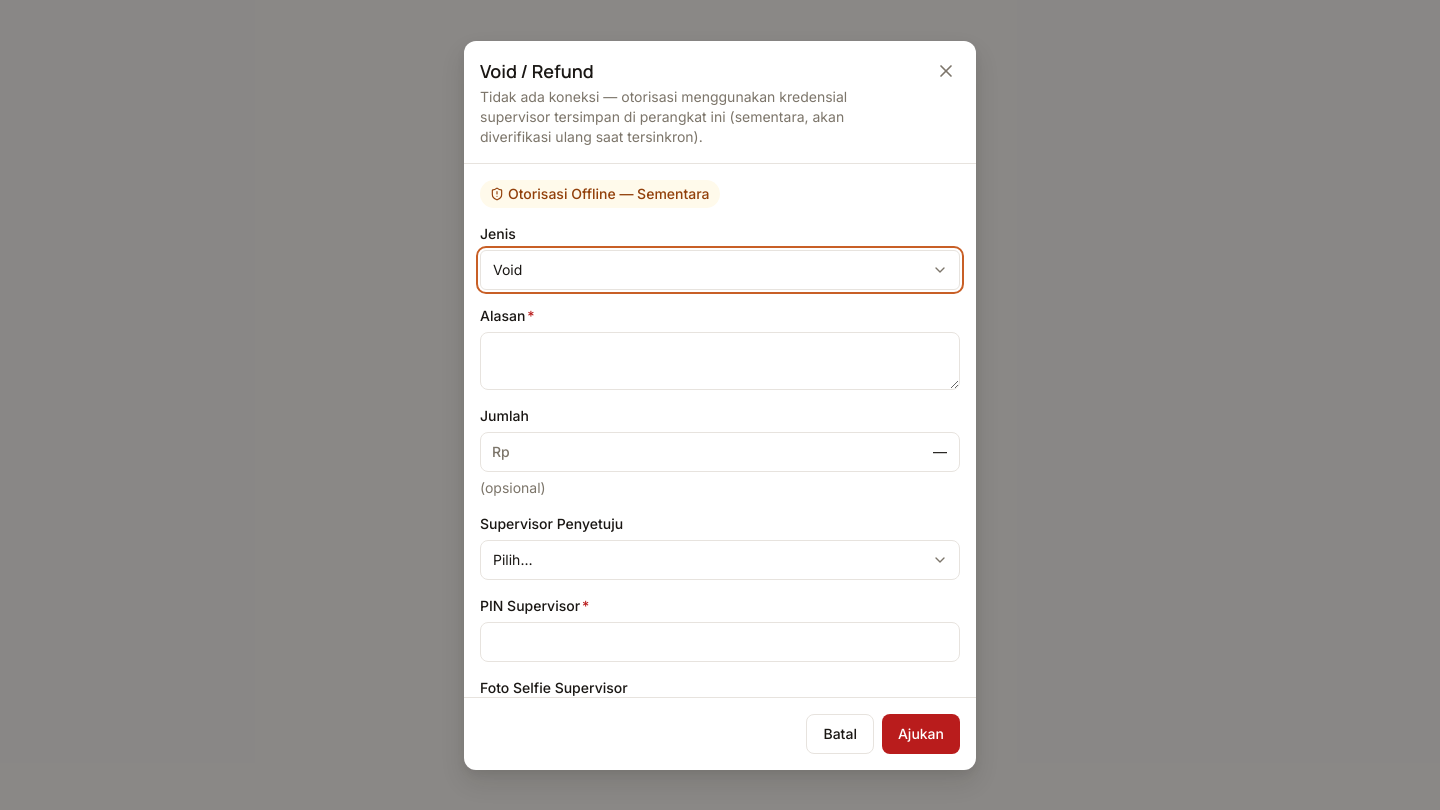
Scenario: VoidRefundModal — offline keeps the cached-credential PIN › RISK-S2: a void at or above the credential threshold cannot be submitted without a selfie
The width and height of the screenshot is (1440, 810).
Expected: the password field labelled "PIN Supervisor*" is shown, [480,622,960,662]
Select "Supervisor Cabang" in the dropdown labelled "Supervisor Penyetuju": (720, 560) [480,540,960,580]
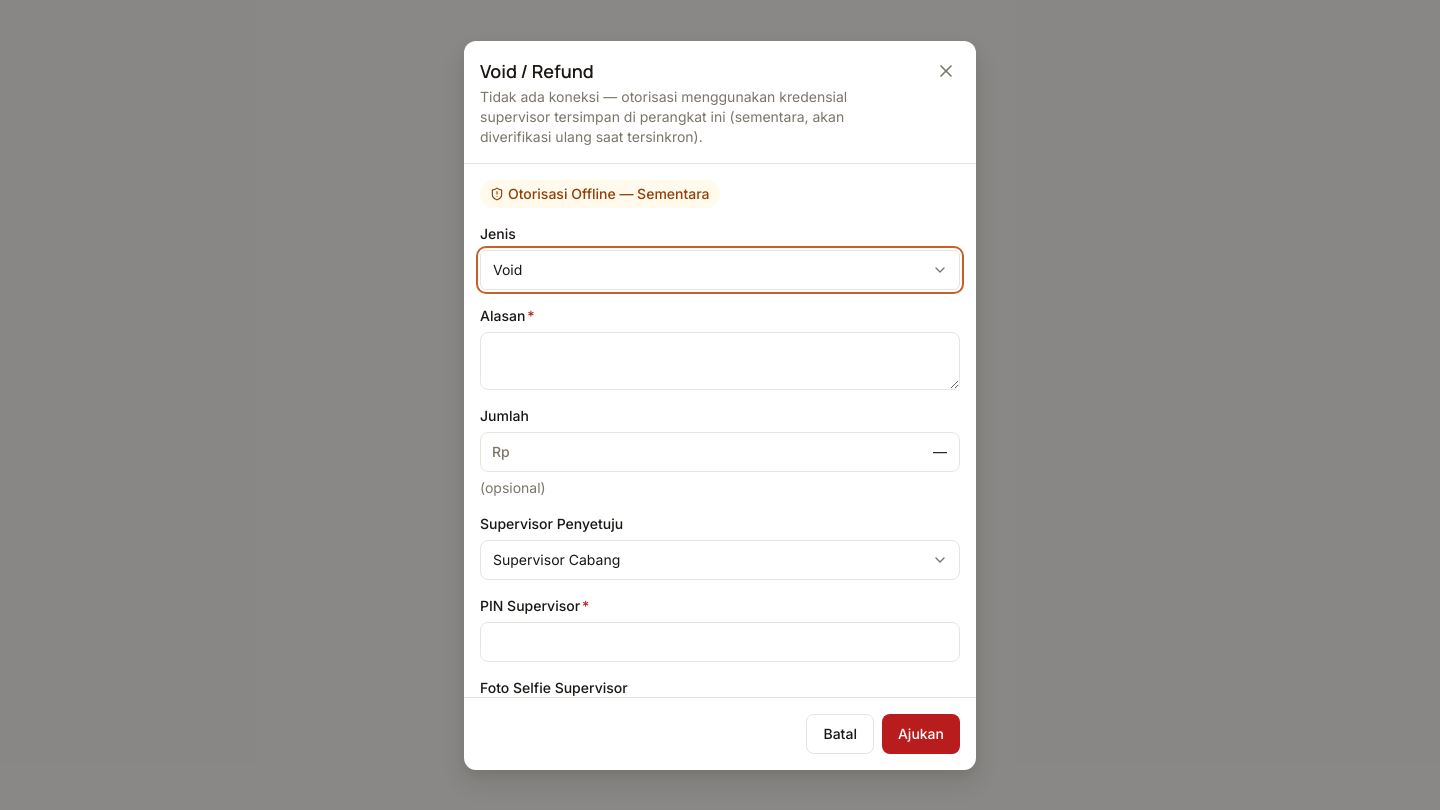
Replace the text in the field labelled "Jumlah" with "250000": (720, 452) [480,432,960,472]
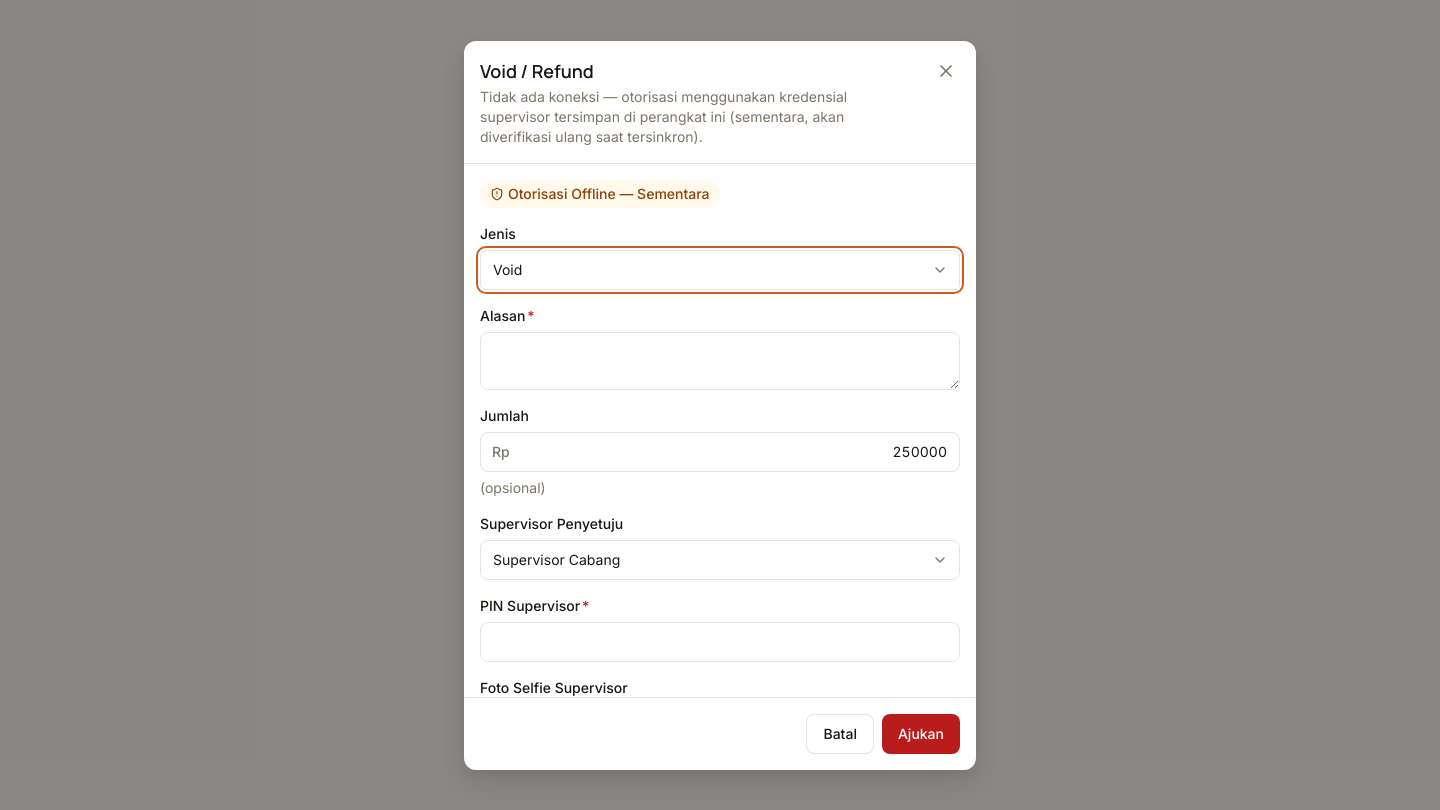
Leave the field labelled "Jumlah", box [480,432,960,472]
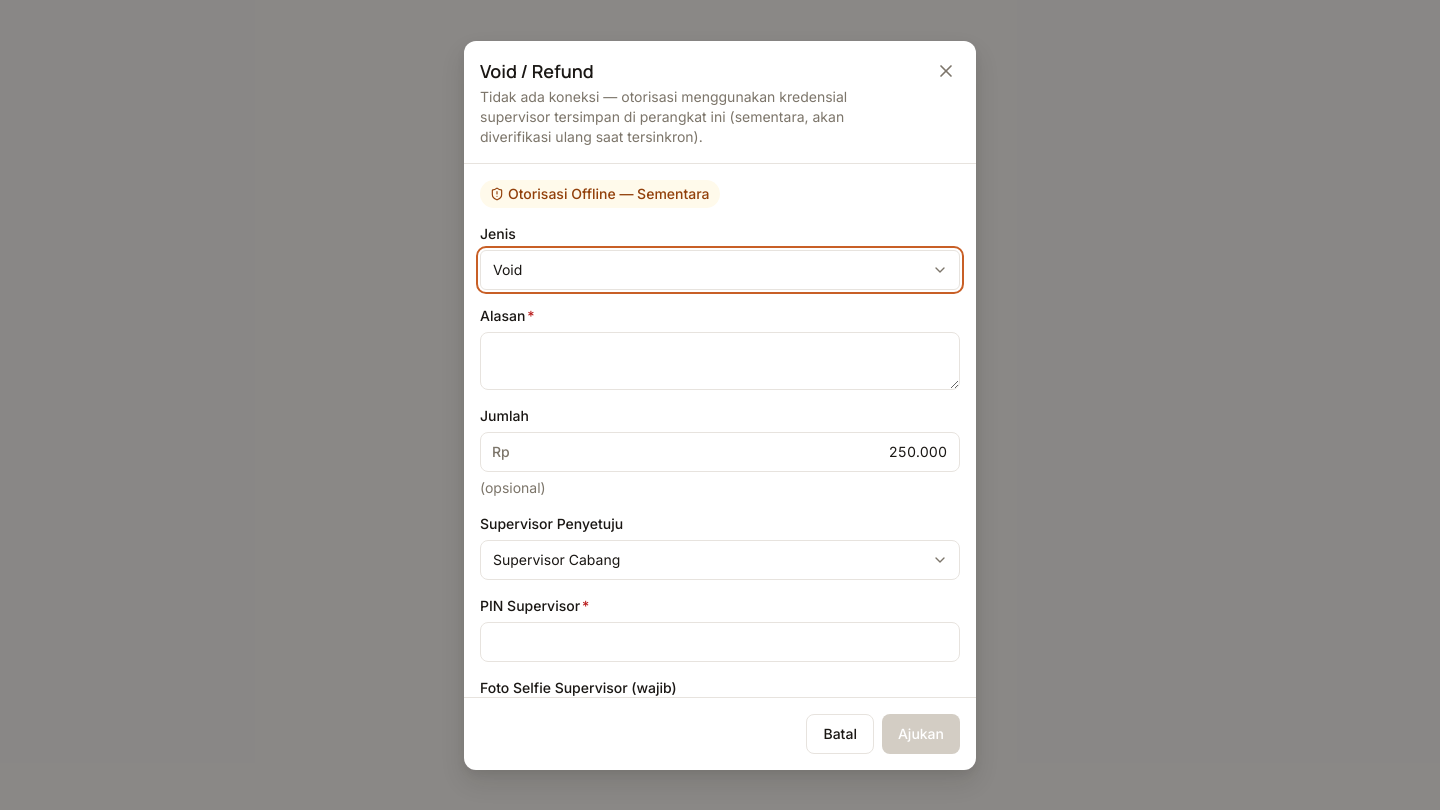
Expected: the text "Foto Selfie Supervisor (wajib)" is shown, [480,678,677,696]
Expected: the button "Ajukan" is disabled, [882,714,960,754]
